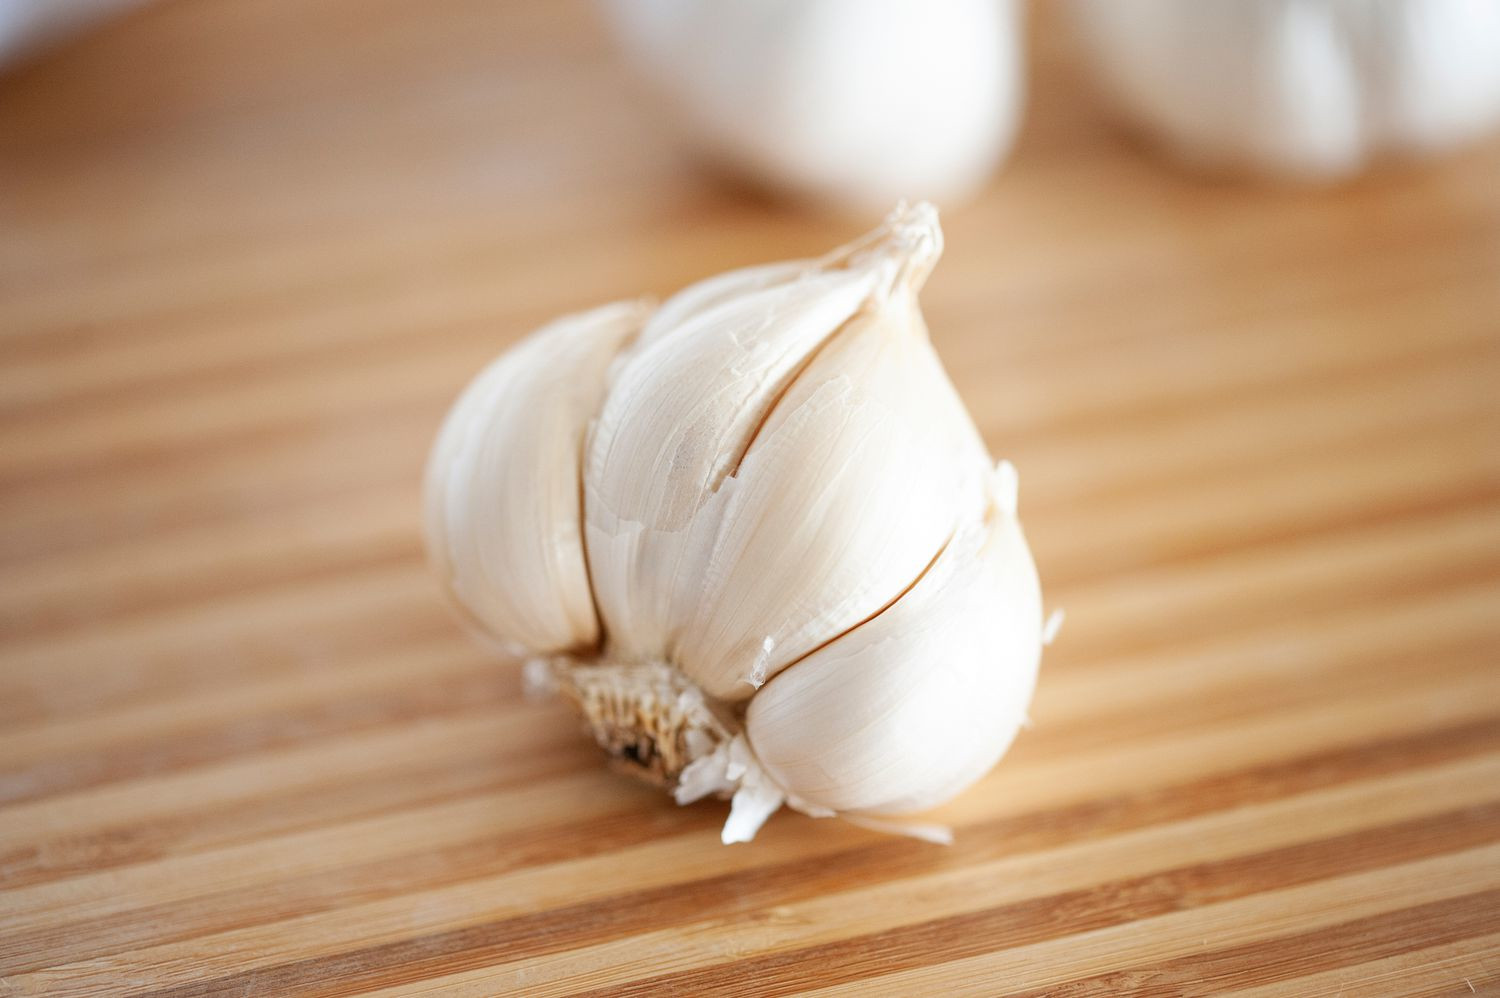garlic: (401, 192, 1067, 830)
